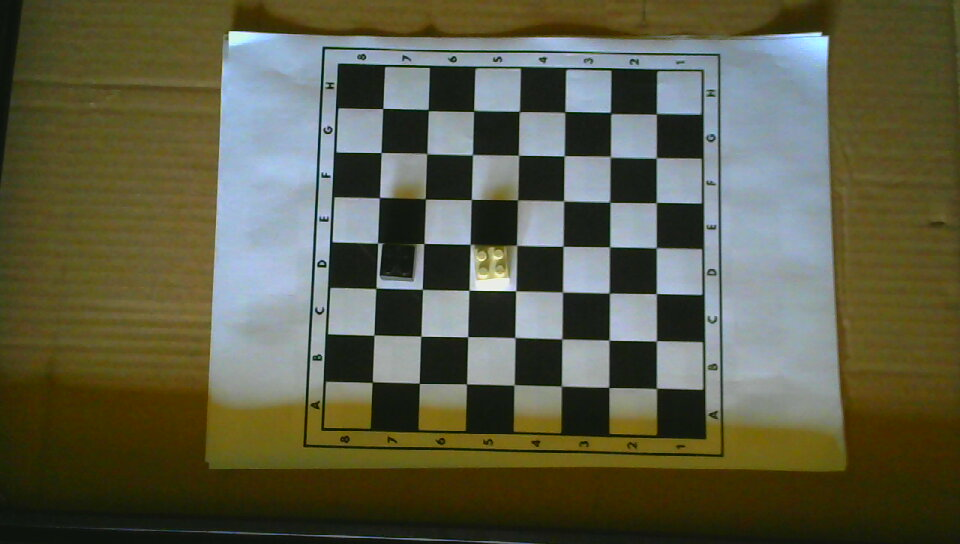bp: (379, 242, 416, 282)
wp: (472, 246, 511, 286)
